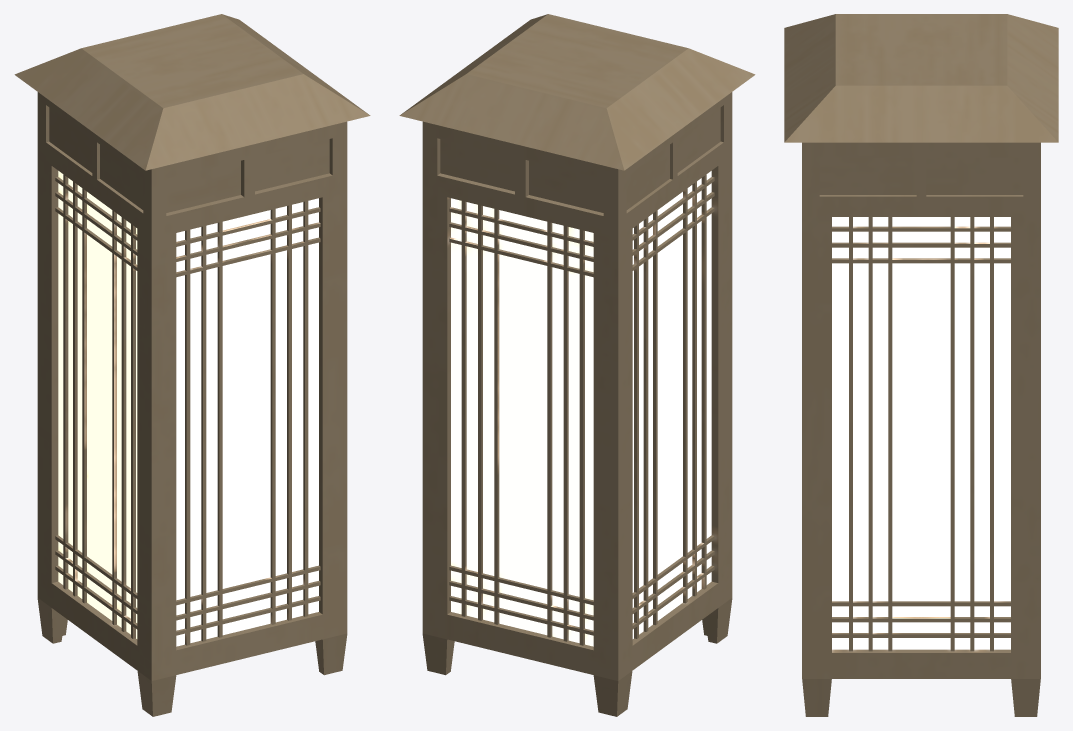
The model's file is Lantern.fbx.
3 views of the same model, side by side, from view 1: azimuth 30°, elevation 25°; view 2: azimuth 150°, elevation 25°; view 3: azimuth 270°, elevation 25° (orthographic). The views are drawn at different scales.
Visible parts, largest first — view 1: Lantern; view 2: Lantern; view 3: Lantern.
Boxes of the visible parts, x1=… form: Lantern: x1=14, y1=14, x2=370, y2=716; Lantern: x1=399, y1=14, x2=755, y2=716; Lantern: x1=784, y1=14, x2=1058, y2=716.
Size of the model in its own units: 29.85 by 75 by 30.15.
